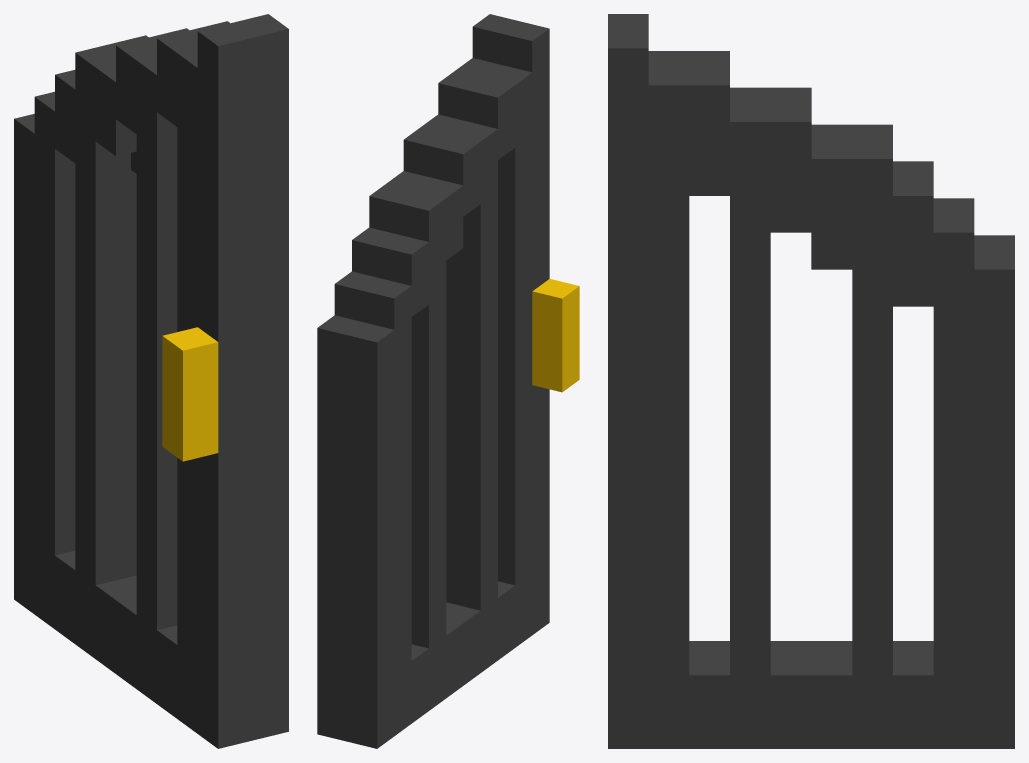
File: DoorLeft.obj
3 renders of one model, left to right at view 1: azimuth 30°, elevation 25°; view 2: azimuth 150°, elevation 25°; view 3: azimuth 270°, elevation 25°, orthographic. The views are drawn at different scales.
Bounding box in the file's own units: 0.3 × 1.9 × 1.
Materials: 1 (1 with a texture image).
